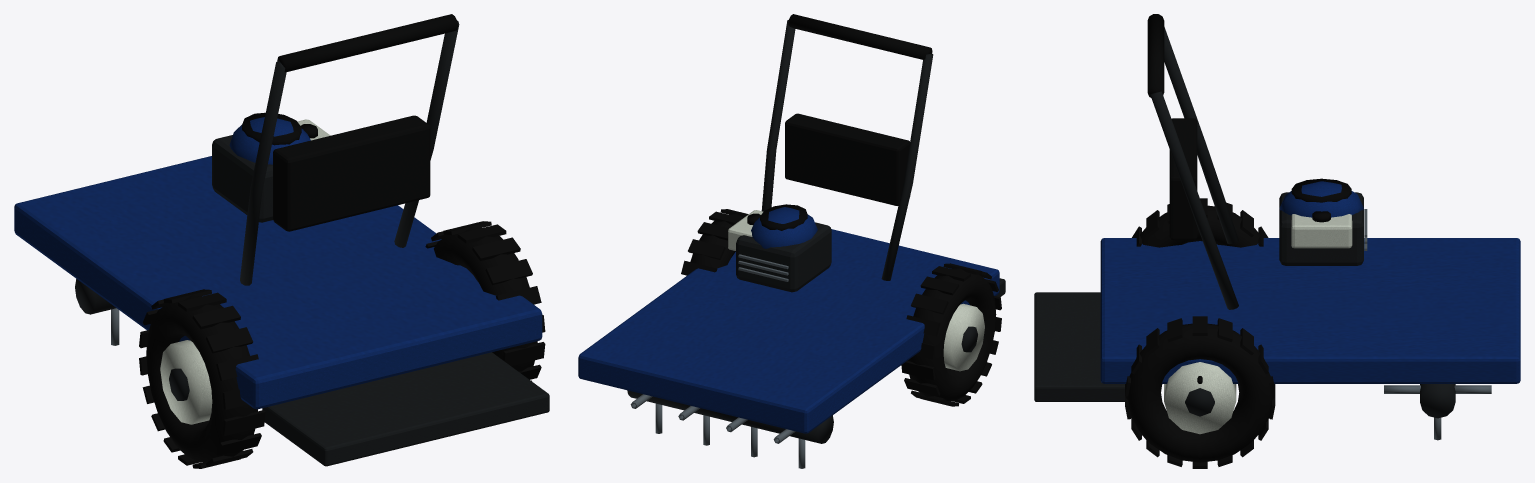
The model's file is StandOnAerator.gltf.
The picture shows the model from 3 angles, left to right: view 1: azimuth 30°, elevation 25°; view 2: azimuth 150°, elevation 25°; view 3: azimuth 270°, elevation 25°; orthographic projection. The views are drawn at different scales.
Parts seen in each view (by area): view 1: StandOnAerator__Body, StandOnAerator__Wheel_Rear-1, StandOnAerator__Wheel_Rear1, StandOnAerator__Wheel_Tines; view 2: StandOnAerator__Body, StandOnAerator__Wheel_Rear-1, StandOnAerator__Wheel_Tines, StandOnAerator__Wheel_Rear1; view 3: StandOnAerator__Body, StandOnAerator__Wheel_Rear1, StandOnAerator__Wheel_Rear-1, StandOnAerator__Wheel_Tines.
Part boxes in pixels (x1,y1,x2,y2): StandOnAerator__Body: (14,14,549,466); StandOnAerator__Wheel_Rear-1: (139,289,265,468); StandOnAerator__Wheel_Rear1: (425,221,545,381); StandOnAerator__Wheel_Tines: (75,279,119,345); StandOnAerator__Body: (578,14,1005,433); StandOnAerator__Wheel_Rear-1: (901,263,1001,406); StandOnAerator__Wheel_Tines: (627,390,833,468); StandOnAerator__Wheel_Rear1: (681,209,748,275); StandOnAerator__Body: (1034,14,1520,401); StandOnAerator__Wheel_Rear1: (1125,316,1275,468); StandOnAerator__Wheel_Rear-1: (1132,198,1268,247); StandOnAerator__Wheel_Tines: (1384,384,1491,440).
Size of the model in its own units: 1.06 by 1.23 by 1.54.
1 material, 1 textured.
